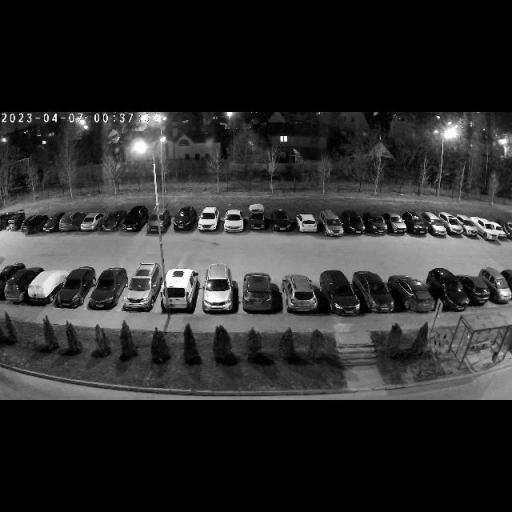busy: (322, 271, 368, 318), (158, 268, 200, 314), (198, 269, 240, 312), (355, 274, 400, 314), (122, 267, 160, 312), (54, 269, 95, 310), (432, 272, 477, 309), (282, 278, 328, 314), (238, 275, 280, 314), (396, 279, 439, 313), (89, 270, 127, 308), (453, 273, 493, 308), (23, 272, 63, 306), (2, 266, 34, 304), (486, 269, 512, 304), (472, 219, 510, 240), (322, 212, 352, 238), (441, 214, 476, 236), (424, 213, 458, 235), (144, 208, 172, 234), (194, 206, 224, 230), (58, 210, 86, 234), (377, 214, 410, 234), (122, 208, 147, 234), (342, 212, 368, 236), (244, 206, 270, 229), (168, 208, 195, 230), (78, 213, 109, 232), (221, 210, 246, 233), (404, 213, 430, 235), (102, 207, 124, 233), (364, 214, 392, 234), (41, 212, 63, 234), (24, 216, 50, 234), (297, 215, 322, 233), (270, 217, 296, 231), (502, 220, 511, 239)
